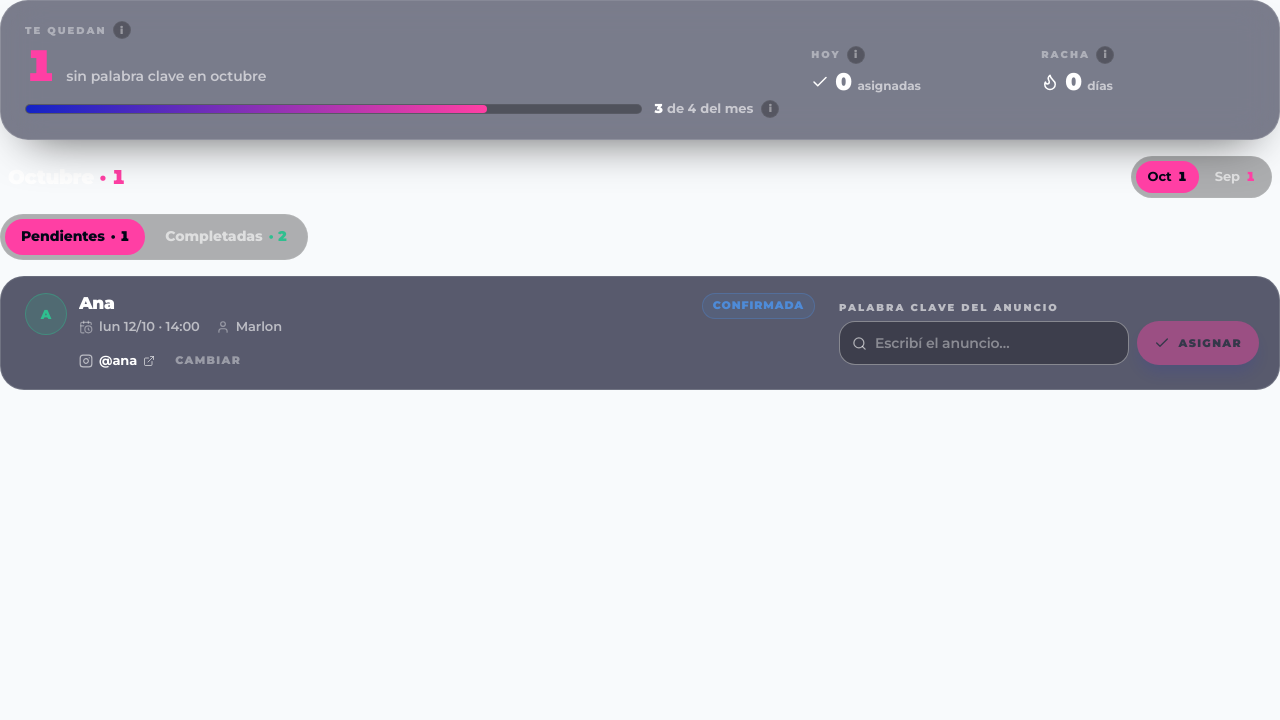
Scenario: MisAgendas · pendientes y completadas › asignar una pendiente la pasa a Completadas en el momento, y el premio sale en Pendientes
The width and height of the screenshot is (1280, 720).
expect the element named "Tu avance" is shown: met, box [0,0,1279,140]
Type "guia" into the dropdown at x=999, y=343, box [875,322,1122,364]
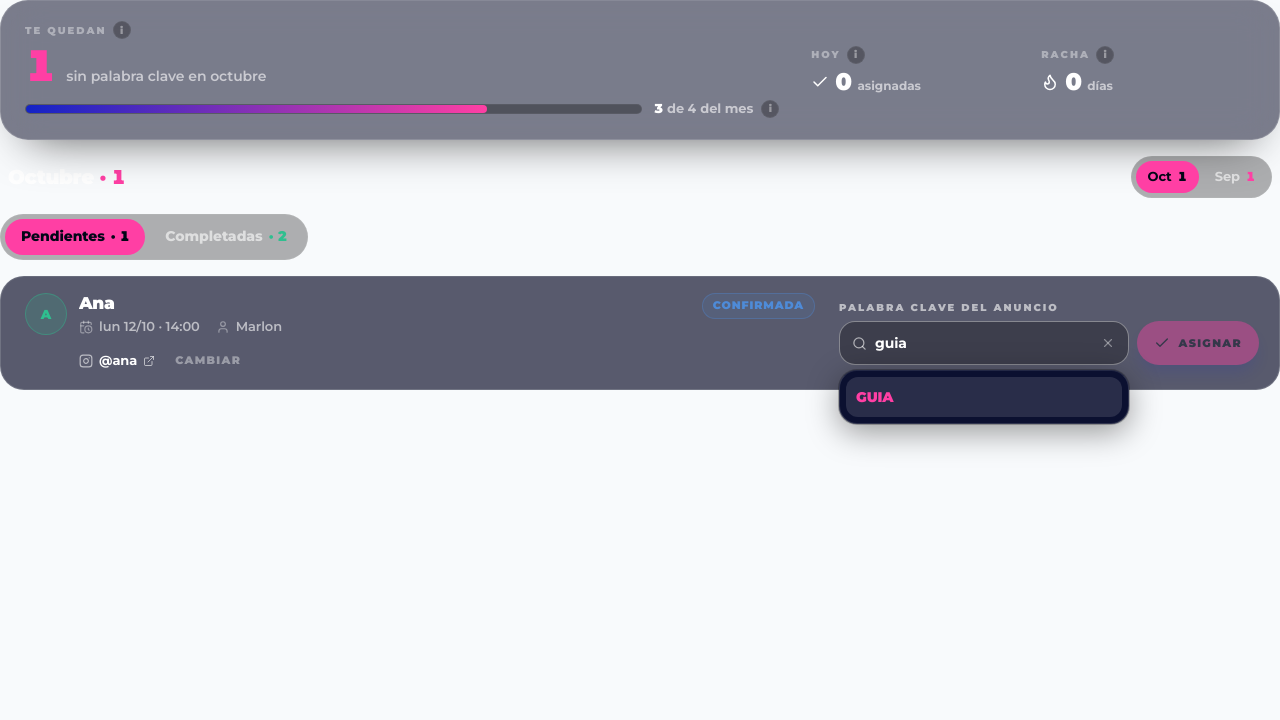
Press Enter in the dropdown, box [875,322,1086,364]
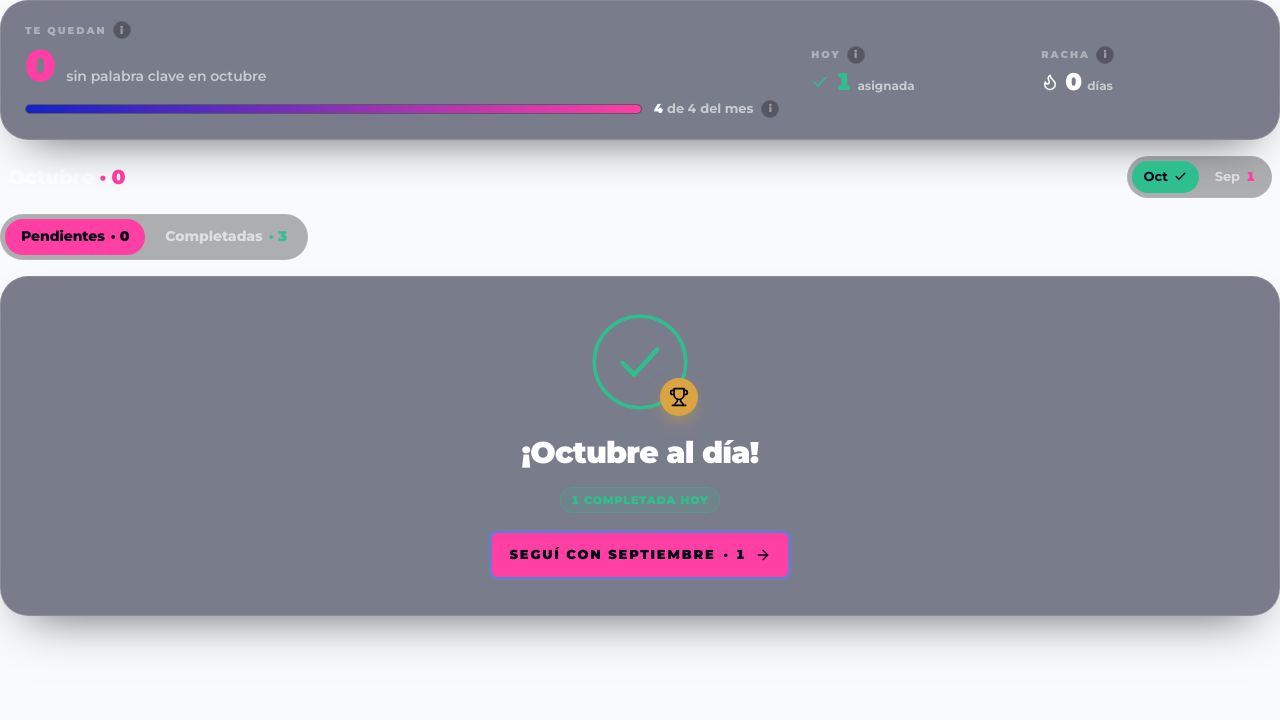
expect the heading "¡Octubre al día!" is shown: met, box [522,430,758,475]
expect the tab "Completadas · 3" is shown: met
Click the tab "Completadas · 3" at x=226, y=236, box [149,218,303,254]
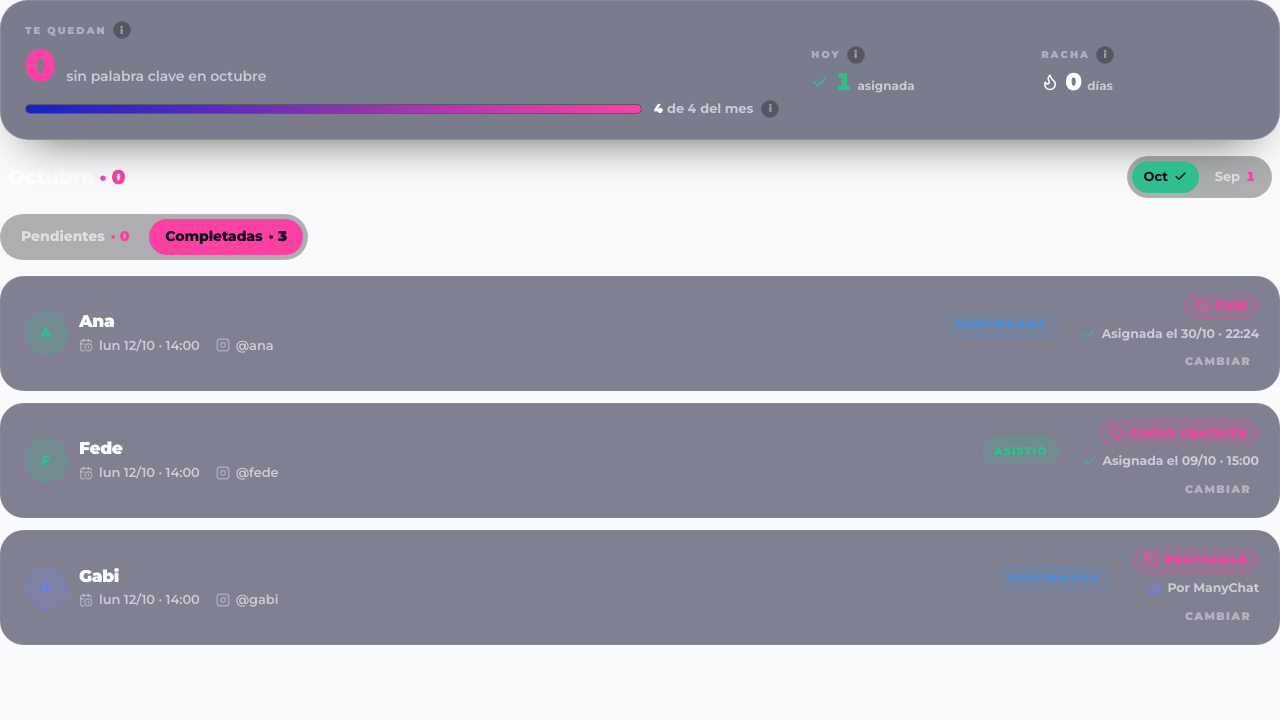
expect the text "GUIA" is shown: met, box [1215,297,1248,314]
expect the text "Asignada el 30/10 · 22:24" is shown: met, box [1082,324,1259,343]
